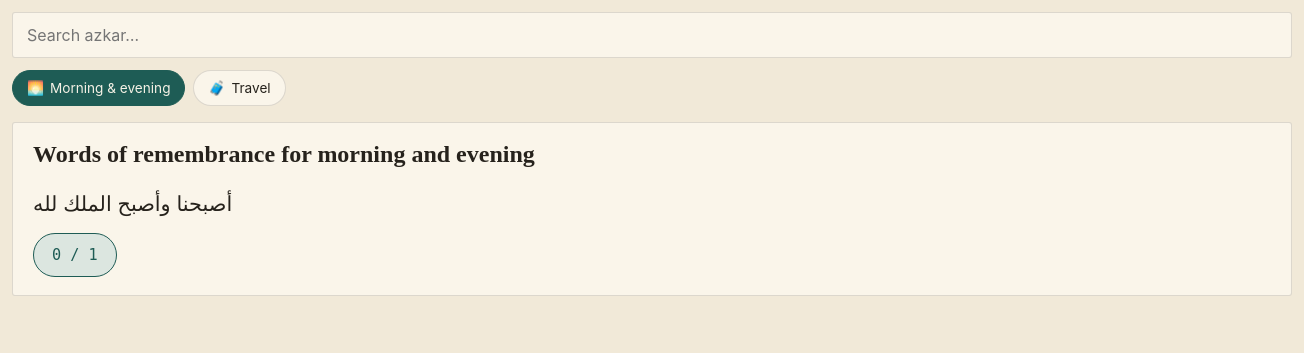
Test: AzkarBrowser › lists a multi-category section's categories, skipping empty ones, and opens one with a way back
Click the tab "🧳 Travel": click(240, 88) x1=194 y1=70 x2=286 y2=106
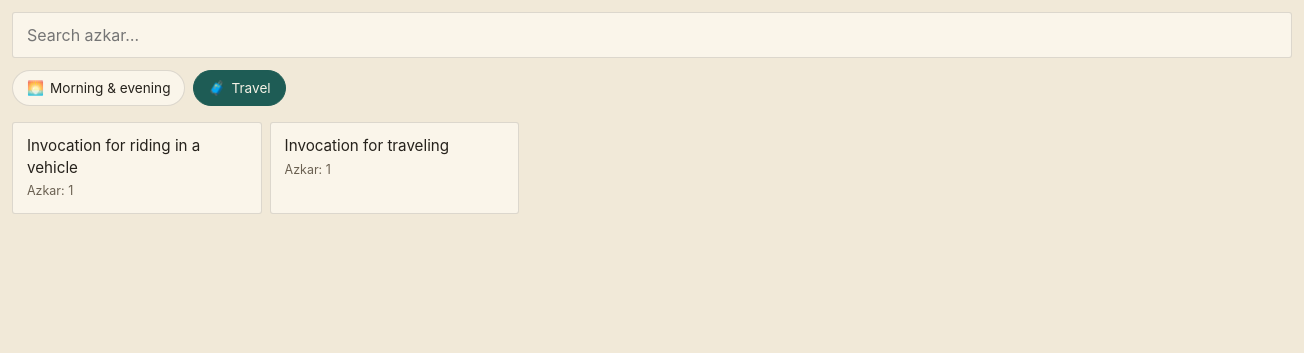
Expected: the buttons read "Invocation for riding in a vehicleAzkar: 1", "Invocation for travelingAzkar: 1", in this order
Click the button "Invocation for traveling Azkar: 1": click(394, 168) x1=270 y1=122 x2=519 y2=214
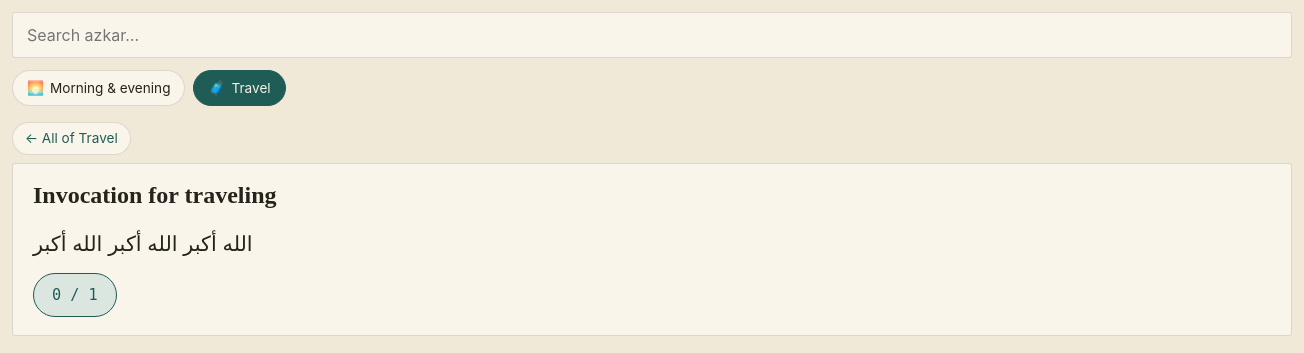
Expected: the text "الله أكبر الله أكبر الله أكبر" is shown, x1=33 y1=232 x2=253 y2=255
Click the button "← All of Travel": click(71, 139) x1=12 y1=122 x2=131 y2=155
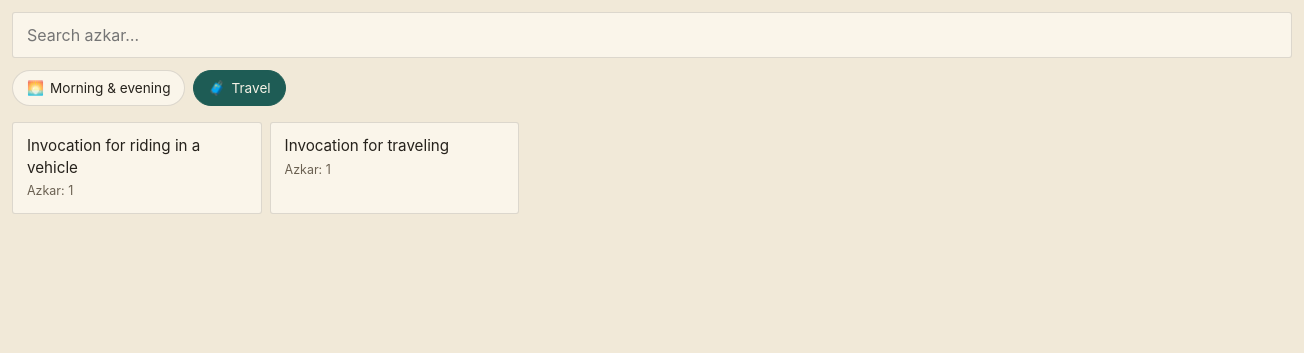
Expected: the number of buttons "Invocation for riding in a vehicle Azkar: 1" is 2, x1=12 y1=122 x2=262 y2=214; x1=270 y1=122 x2=519 y2=214
